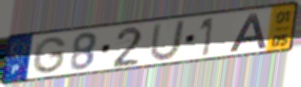1: (198, 15, 216, 57)
2: (112, 24, 145, 69)
8: (68, 30, 99, 72)
A: (227, 12, 268, 54)
G: (30, 35, 69, 75)
U: (148, 19, 188, 62)
